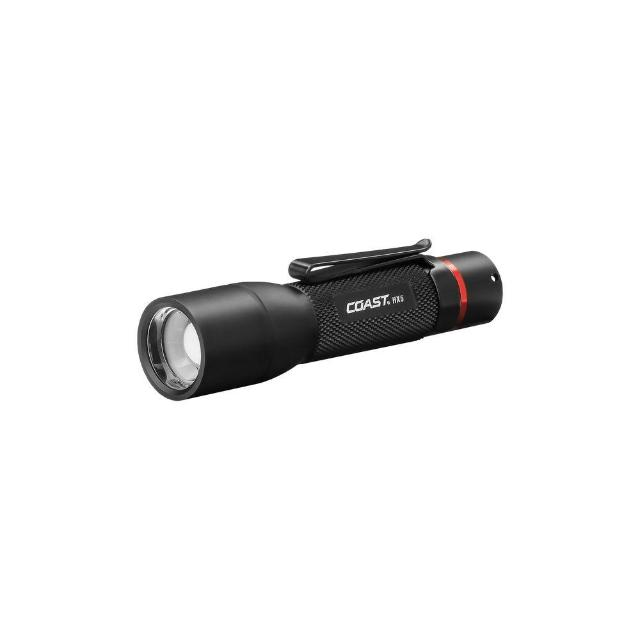Flashlight: (128, 230, 508, 410)
